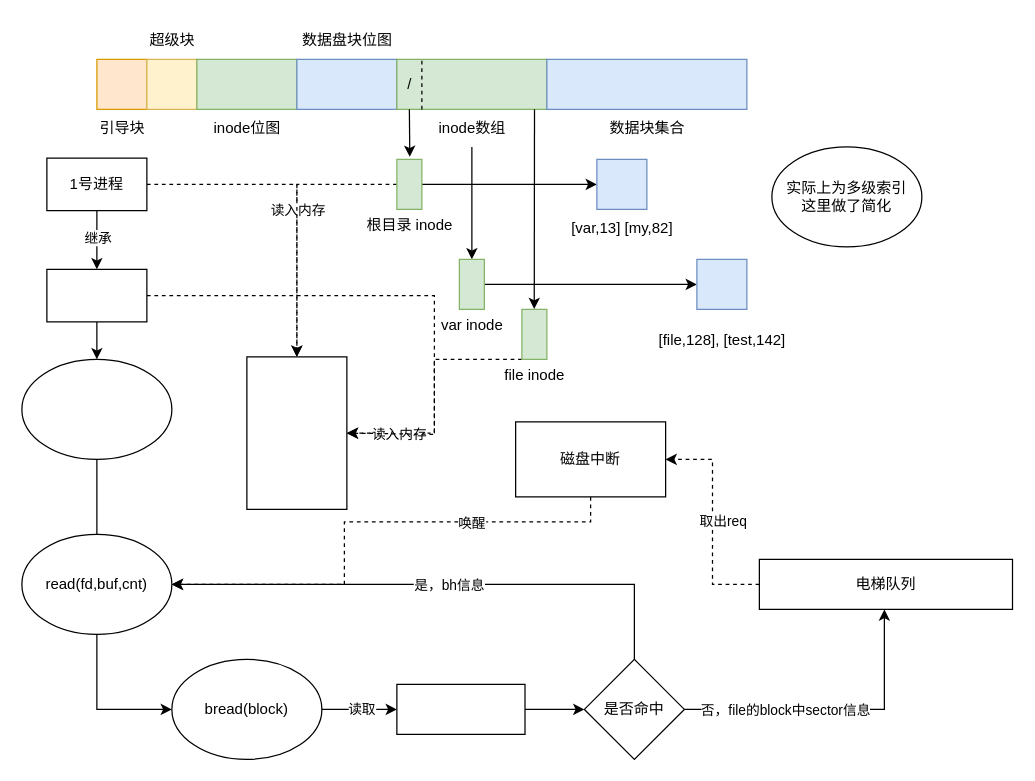
Image size: 1035x781. Some labels were removed from this diagram. The centre of each missing label's shape, as x and y in pixels:
fd = open("/var/file"): [96,408]
n号进程: [96,295]
内存: [296,432]
高速缓存: [460,708]
